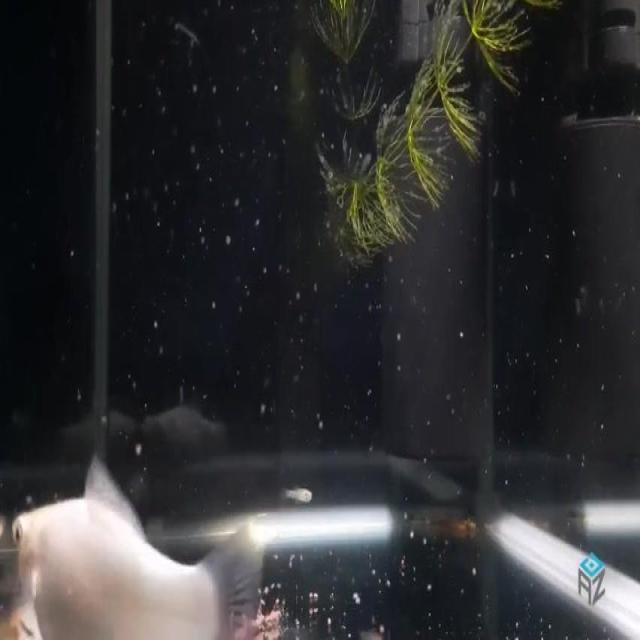PlatyFish: (0, 436, 279, 640)
